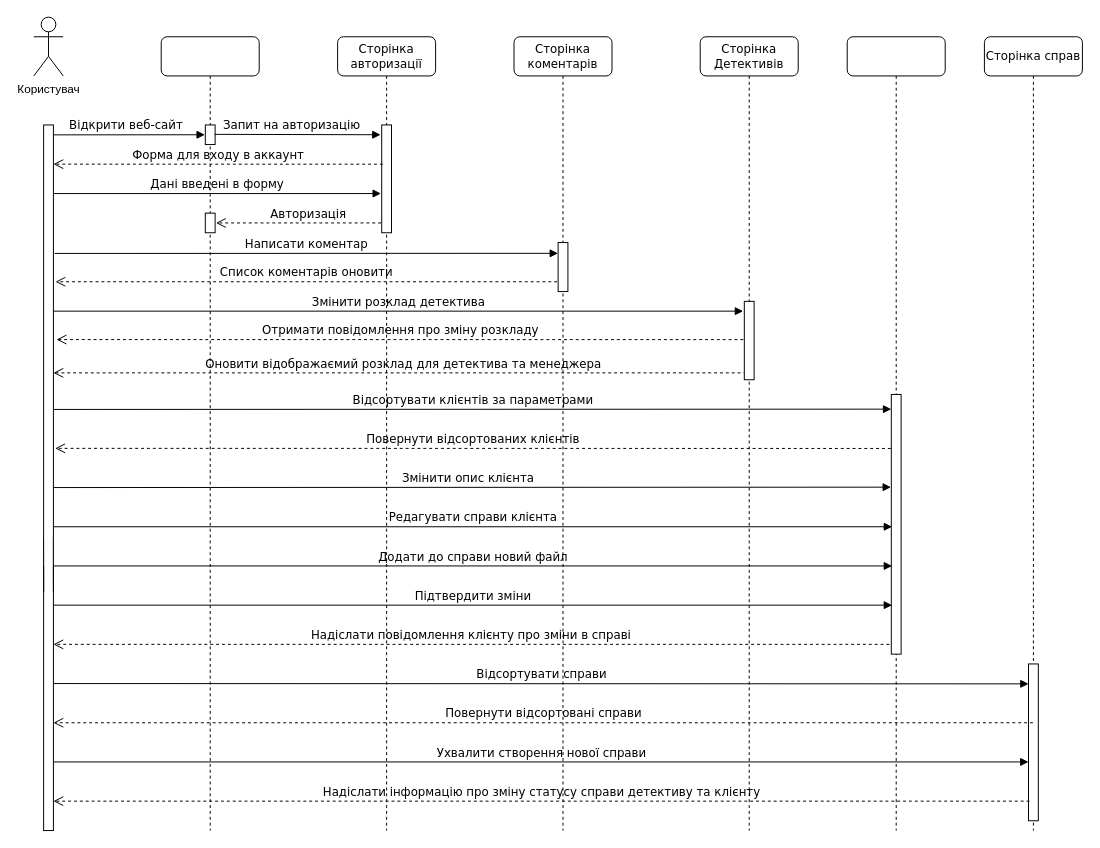
Image size: 1100x848. Some labels were removed from this diagram. Each missing label, with the box of its shape:
Головна сторінка: (160, 36, 259, 831)
Сторінка клієнтів: (846, 36, 945, 831)
